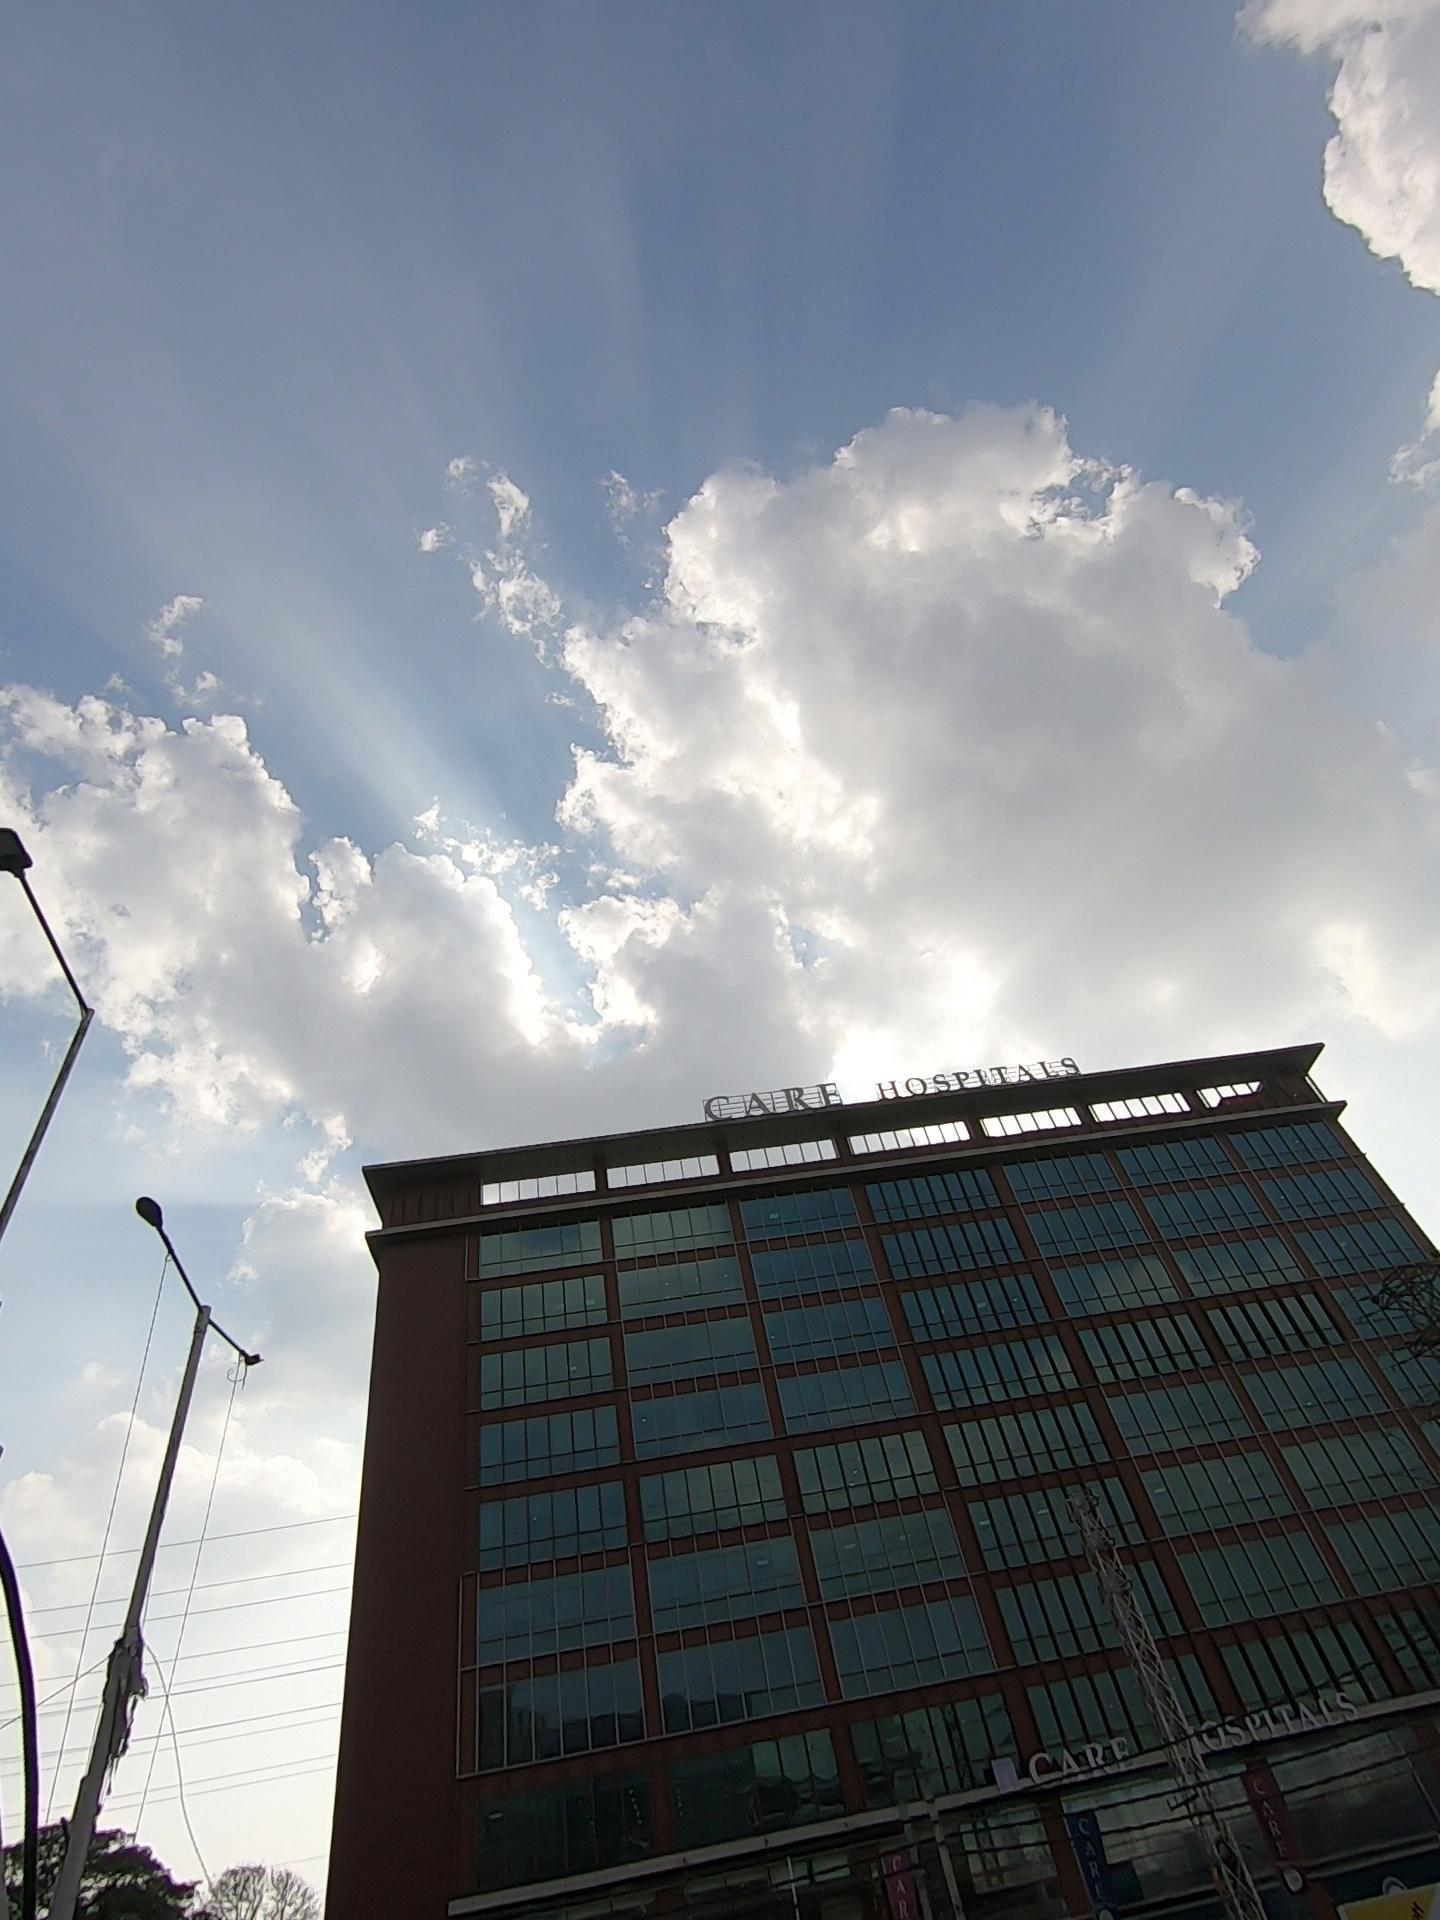off: (65, 1172, 284, 1407), (0, 771, 119, 1084)
